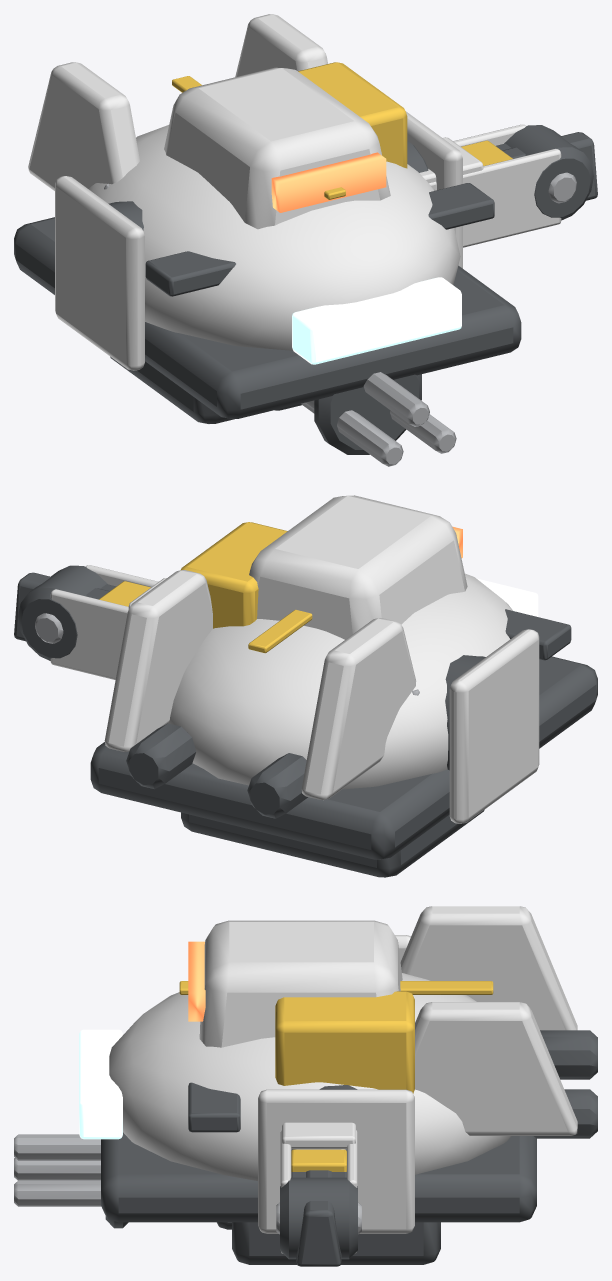
Rendered from burst.glb.
The picture shows the model from 3 angles, top to bottom: view 1: azimuth 30°, elevation 25°; view 2: azimuth 150°, elevation 25°; view 3: azimuth 270°, elevation 25°; orthographic projection.
Visible parts, largest first — view 1: Hull, Turret, LegUpper, Barrel, LegLower; view 2: Hull, Turret, LegUpper, LegLower; view 3: Hull, Turret, LegUpper, Barrel, LegLower.
Part boxes in pixels (x1,y1,x2,y2): Hull: (14, 14, 521, 423); Turret: (164, 62, 407, 229); LegUpper: (419, 124, 593, 247); Barrel: (274, 372, 456, 466); LegLower: (461, 132, 597, 200); Hull: (90, 570, 597, 877); Turret: (181, 495, 467, 639); LegUpper: (18, 565, 166, 679); LegLower: (14, 572, 150, 641); Hull: (79, 906, 597, 1264); Turret: (188, 920, 414, 1093); LegUpper: (276, 1122, 361, 1259); Barrel: (14, 1134, 231, 1229); LegLower: (291, 1149, 346, 1266).
Size of the model in its own units: 0.646 by 0.355 by 0.67.
